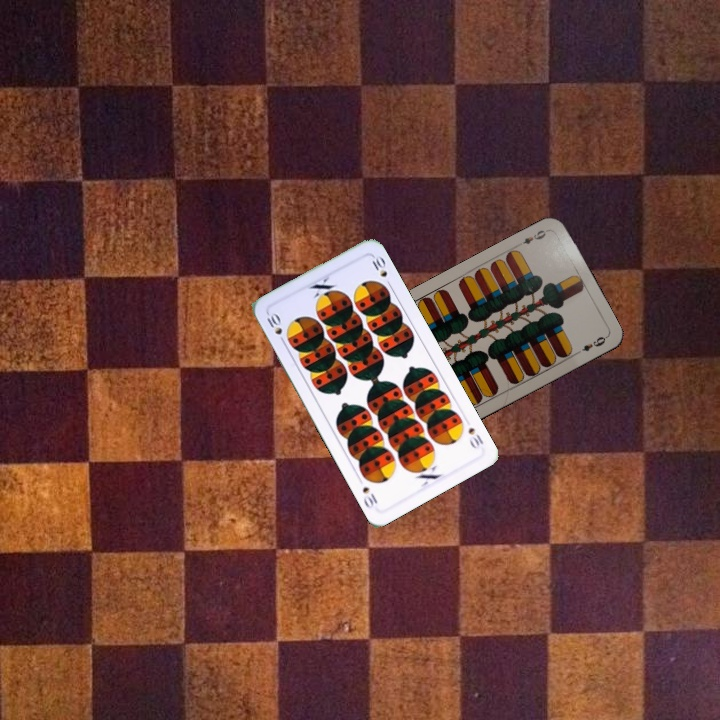E9: (513, 225, 551, 249)
S10: (263, 308, 288, 347), (464, 423, 486, 451)
